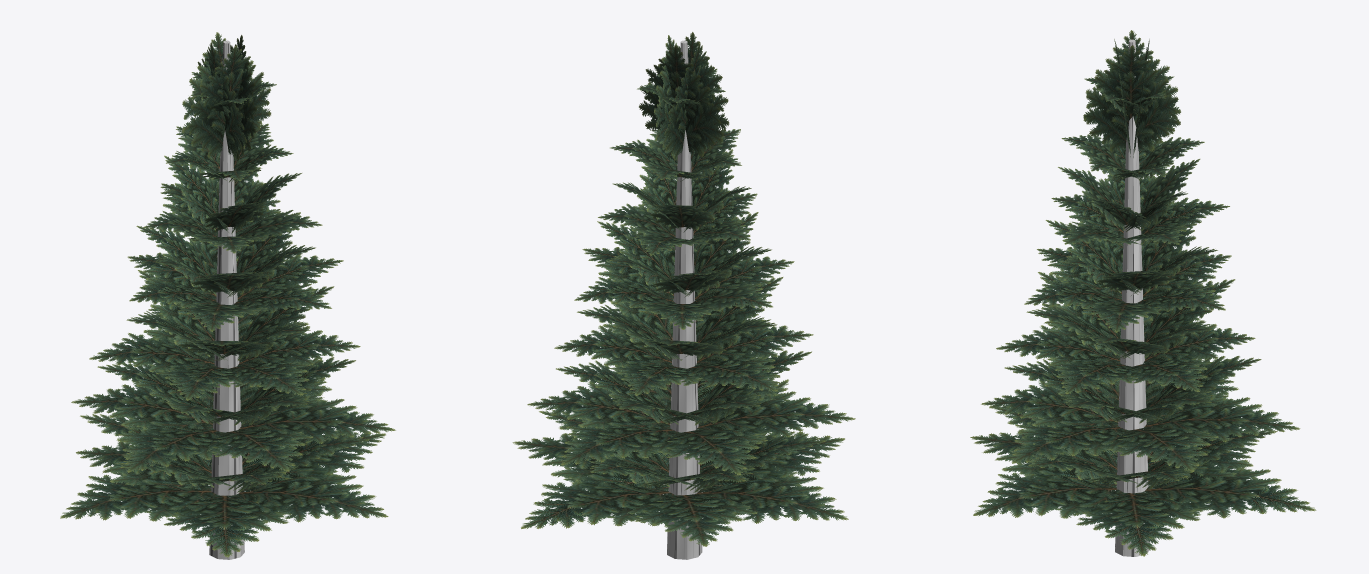
The model's file is Ashen_Pine.obj.
3 renders of one model, left to right at view 1: azimuth 30°, elevation 25°; view 2: azimuth 150°, elevation 25°; view 3: azimuth 270°, elevation 25°, orthographic.
Parts seen in each view (by area): view 1: Ashen_Pine; view 2: Ashen_Pine; view 3: Ashen_Pine.
Part boxes in pixels (x1,y1,x2,y2): Ashen_Pine: (60, 32, 395, 559); Ashen_Pine: (512, 32, 855, 559); Ashen_Pine: (970, 30, 1316, 556).
Size of the model in its own units: 3.88 by 5.6 by 4.26.
Materials: 3 (3 with a texture image).
